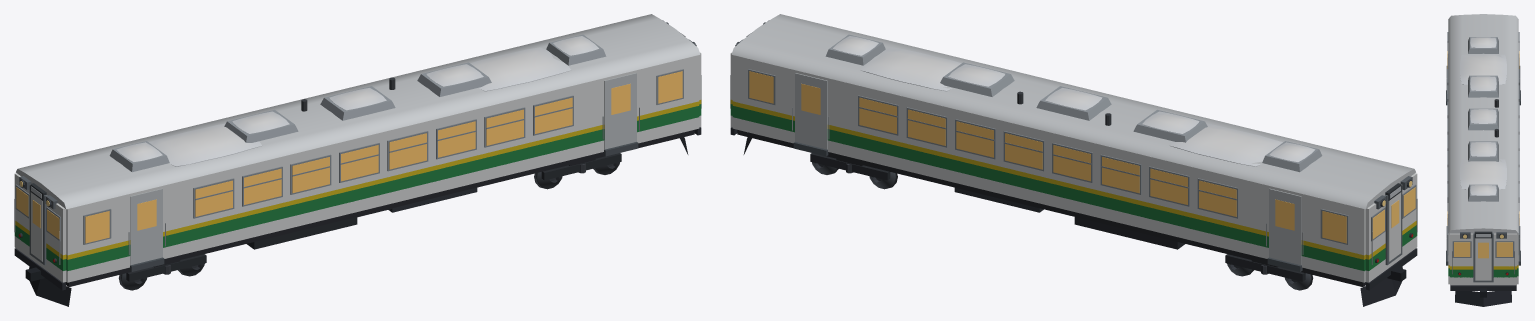
The model's file is train.glb.
3 renders of one model, left to right at view 1: azimuth 30°, elevation 25°; view 2: azimuth 150°, elevation 25°; view 3: azimuth 270°, elevation 25°, orthographic. The views are drawn at different scales.
Parts seen in each view (by area): view 1: train; view 2: train; view 3: train.
Part boxes in pixels (x1,y1,x2,y2): train: (14,14,701,306); train: (730,14,1417,306); train: (1446,14,1520,306).
Size of the model in its own units: 21.76 by 4.01 by 3.08.
